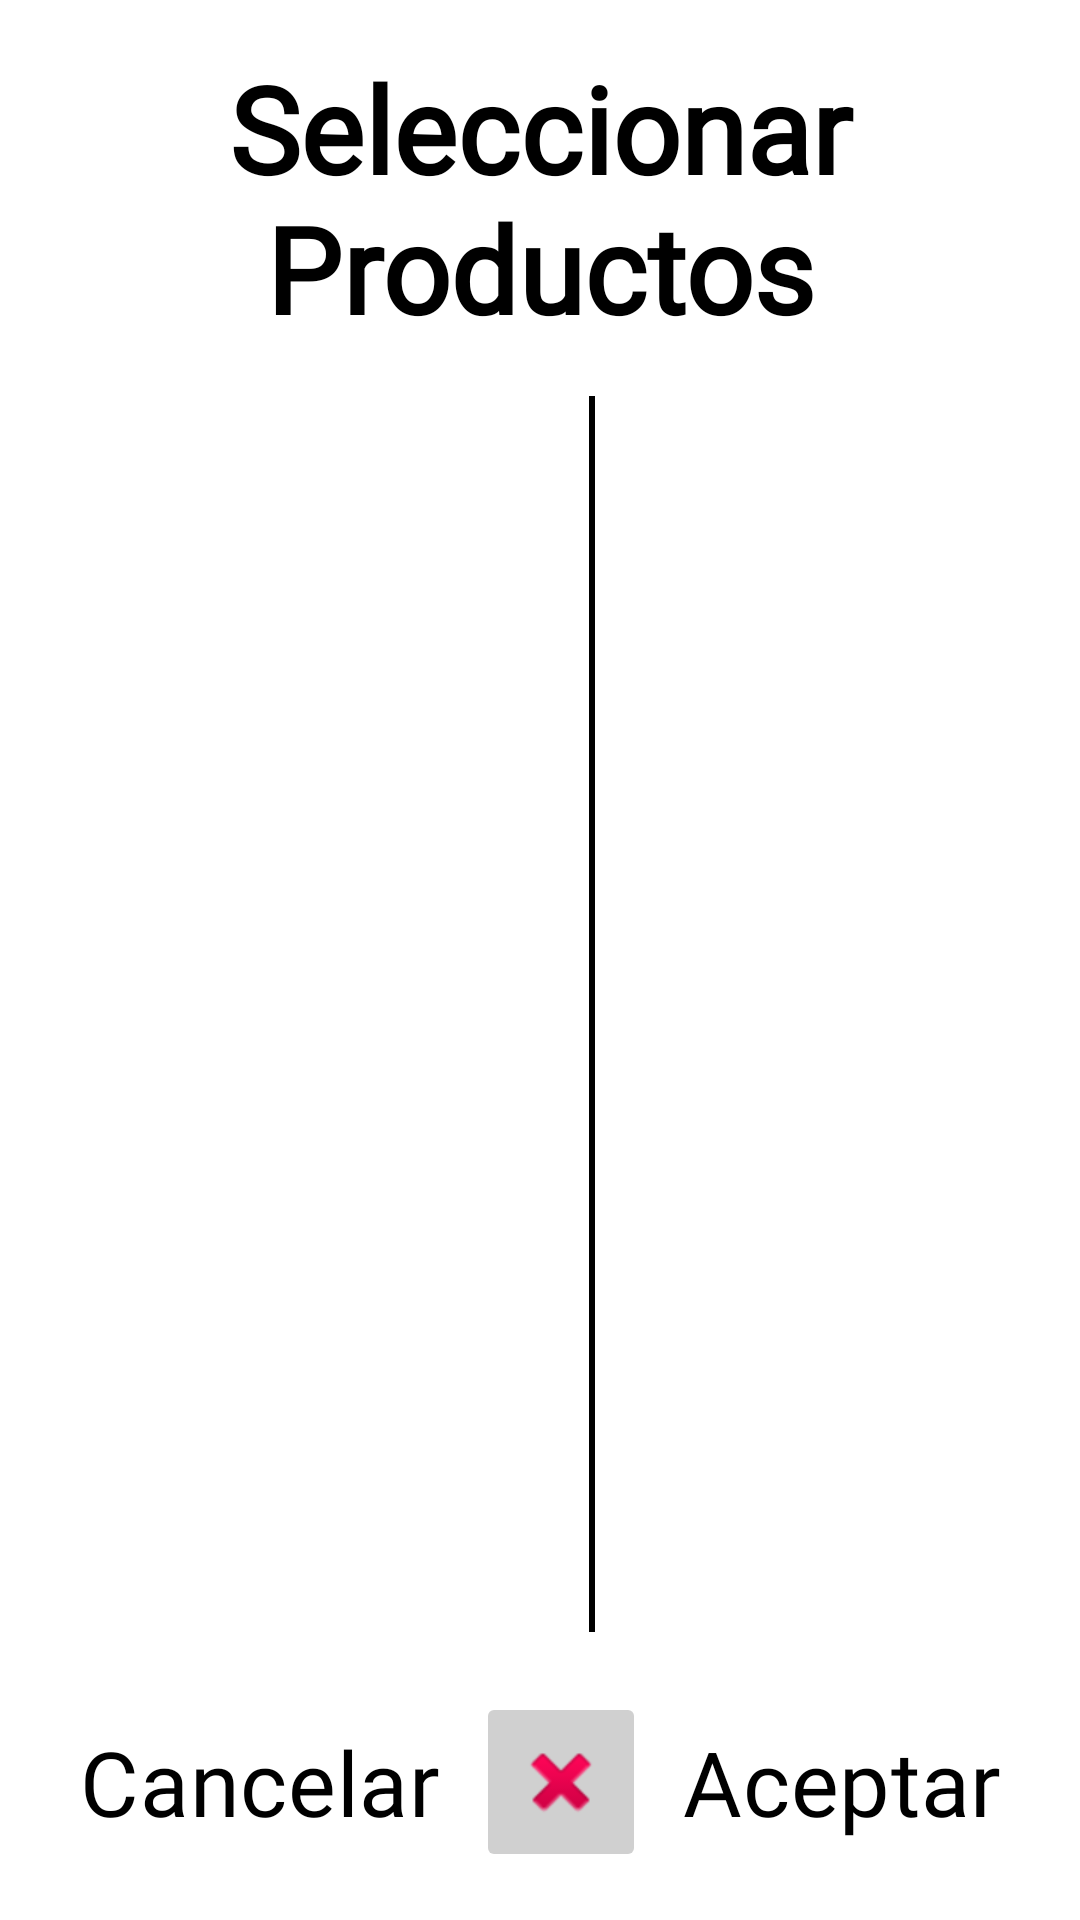

Screen size 1080px×1920px. Icon name, then its center in pixels as (x,y):
Borrar item seleccionado: (561,1782)
